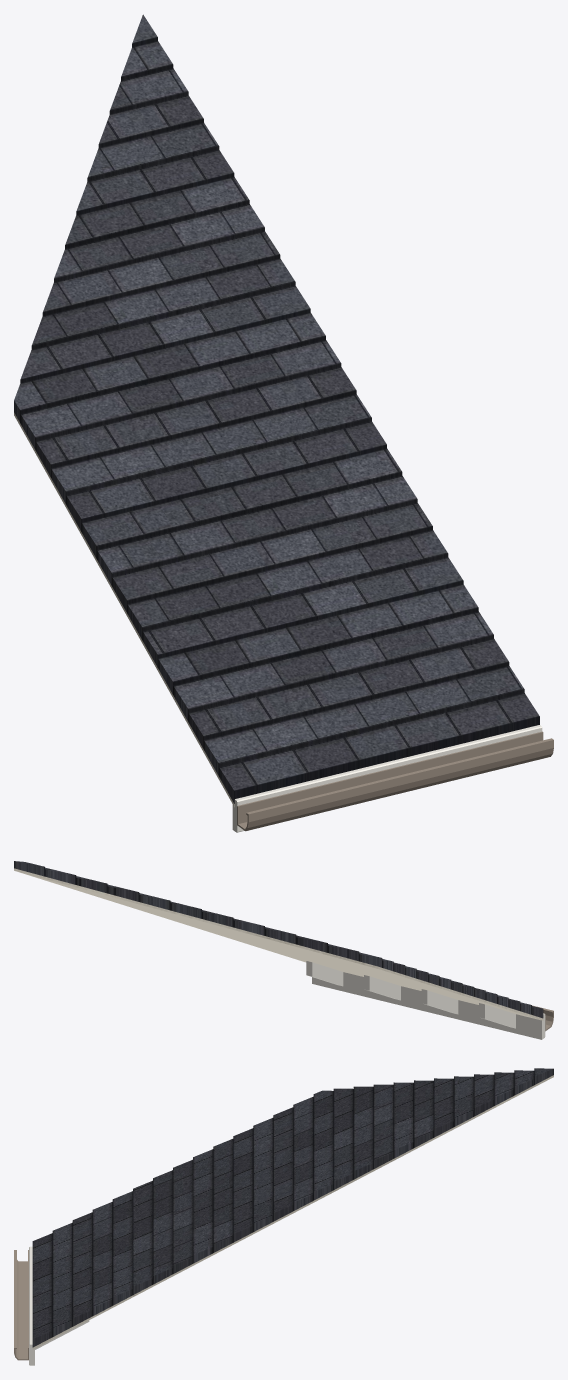
Rendered from roof_hip_3_l.glb.
3 renders of one model, top to bottom at view 1: azimuth 30°, elevation 25°; view 2: azimuth 150°, elevation 25°; view 3: azimuth 270°, elevation 25°, orthographic. The views are drawn at different scales.
Visible parts, largest first — view 1: roof_hip_3_l_shingles, roof_hip_3_l_gutter, roof_hip_3_l_trim, roof_hip_3_l_plaster; view 2: roof_hip_3_l_shingles, roof_hip_3_l_plaster, roof_hip_3_l_trim; view 3: roof_hip_3_l_shingles, roof_hip_3_l_gutter, roof_hip_3_l_plaster, roof_hip_3_l_trim.
Part boxes in pixels (<box>): roof_hip_3_l_shingles: <box>14,14,539,803</box>; roof_hip_3_l_gutter: <box>237,731,553,831</box>; roof_hip_3_l_trim: <box>232,725,542,832</box>; roof_hip_3_l_plaster: <box>14,412,234,806</box>; roof_hip_3_l_shingles: <box>14,861,543,1018</box>; roof_hip_3_l_plaster: <box>14,868,543,1020</box>; roof_hip_3_l_trim: <box>306,961,545,1039</box>; roof_hip_3_l_shingles: <box>32,1068,553,1347</box>; roof_hip_3_l_gutter: <box>14,1250,28,1360</box>; roof_hip_3_l_plaster: <box>32,1075,553,1349</box>; roof_hip_3_l_trim: <box>29,1246,89,1365</box>.
Bounding box in the file's own units: 2 × 2.83 × 4.66.
Materials: 4 (2 with a texture image).
